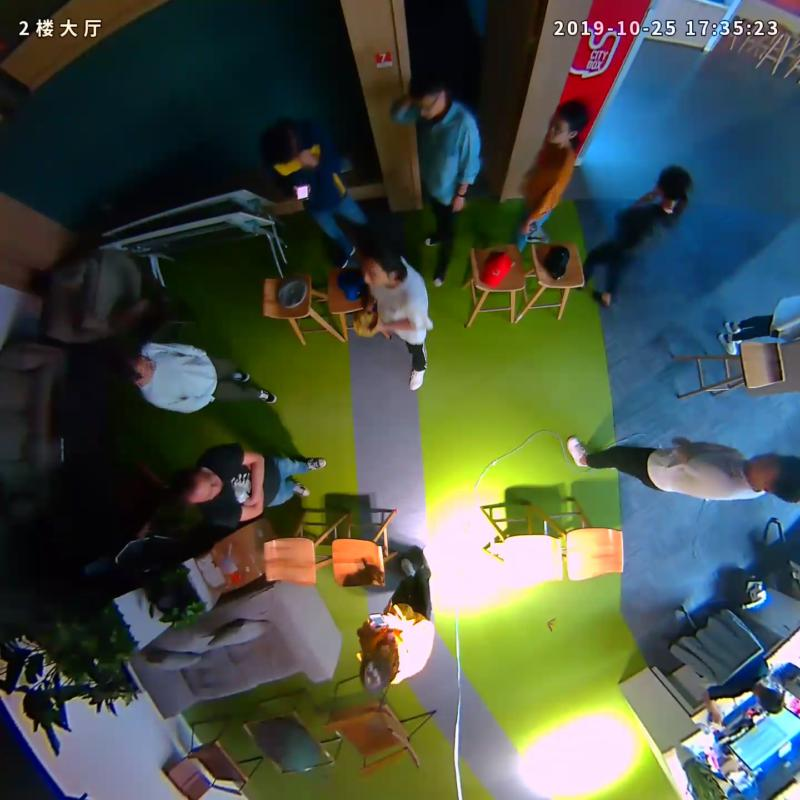head: (751, 451, 800, 503), (359, 636, 400, 694), (358, 240, 402, 290), (409, 64, 448, 120), (545, 98, 588, 145), (174, 464, 223, 504), (263, 122, 304, 165), (653, 163, 695, 201), (110, 352, 156, 386)
